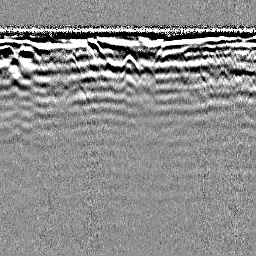cavity: (120, 52, 139, 72)
